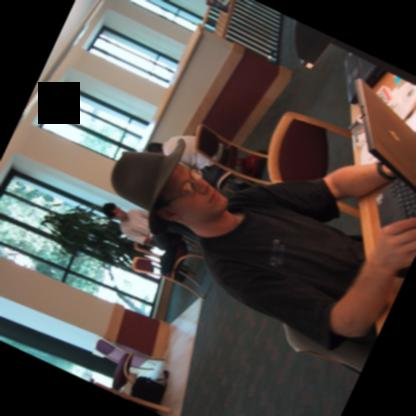backpack: (238, 150, 267, 178)
handbag: (125, 368, 169, 415), (159, 243, 176, 275)
